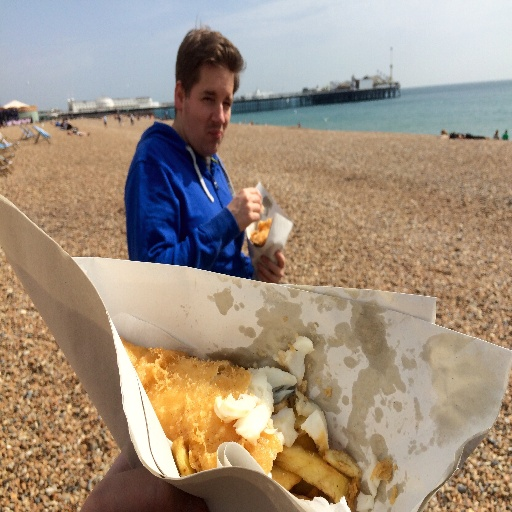hand: (79, 452, 214, 511), (227, 184, 263, 232), (252, 248, 287, 284)
